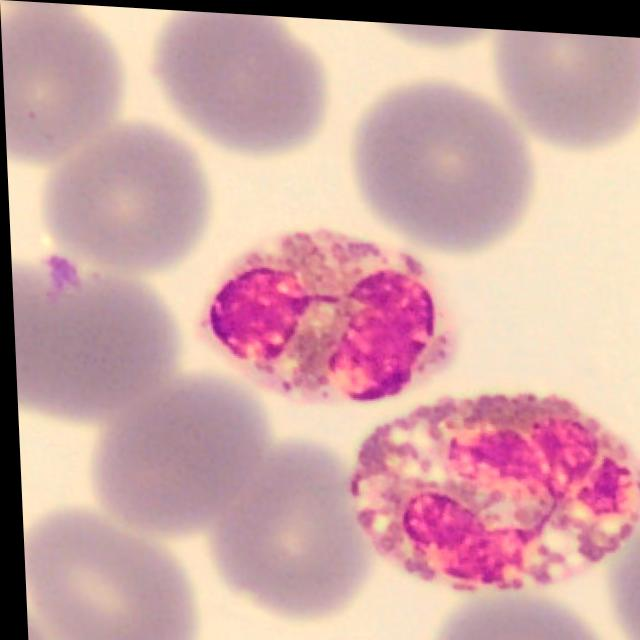Eosinofilo: (344, 387, 640, 590), (196, 227, 454, 403)
